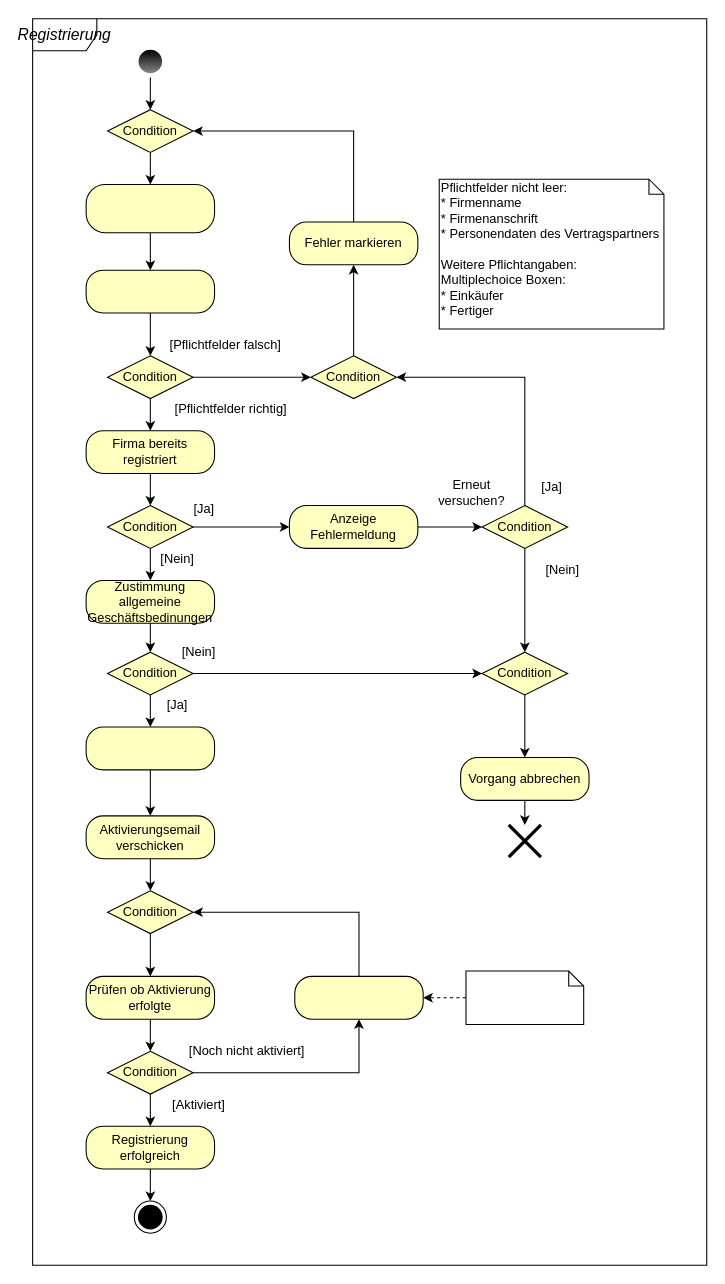
Image size: 725x1284. Some labels were removed from this diagram. Here are the shapes that lost their labels. From the top down, the box of each, then its label:
(85, 184, 215, 233): Eingabe Firmen- & Personendaten
(85, 269, 215, 313): Pflichtfelder prüfen
(85, 726, 215, 770): Accountdaten abspeichern
(294, 975, 423, 1019): Erinnerungsemail verschicken
(465, 970, 584, 1025): Nach 3 Tagen
